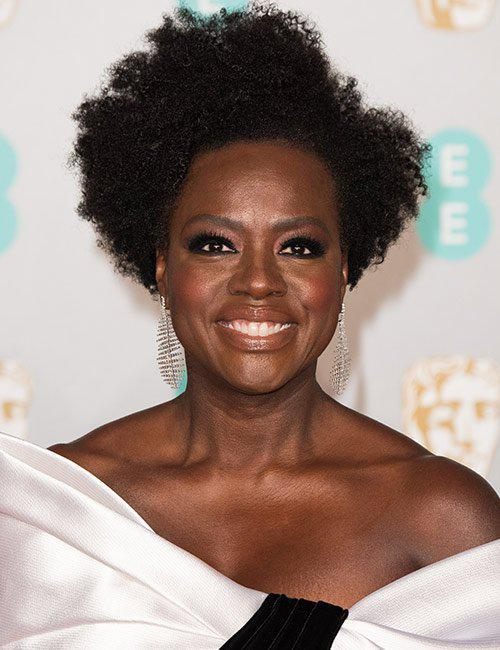Sober: (179, 165, 336, 382)
